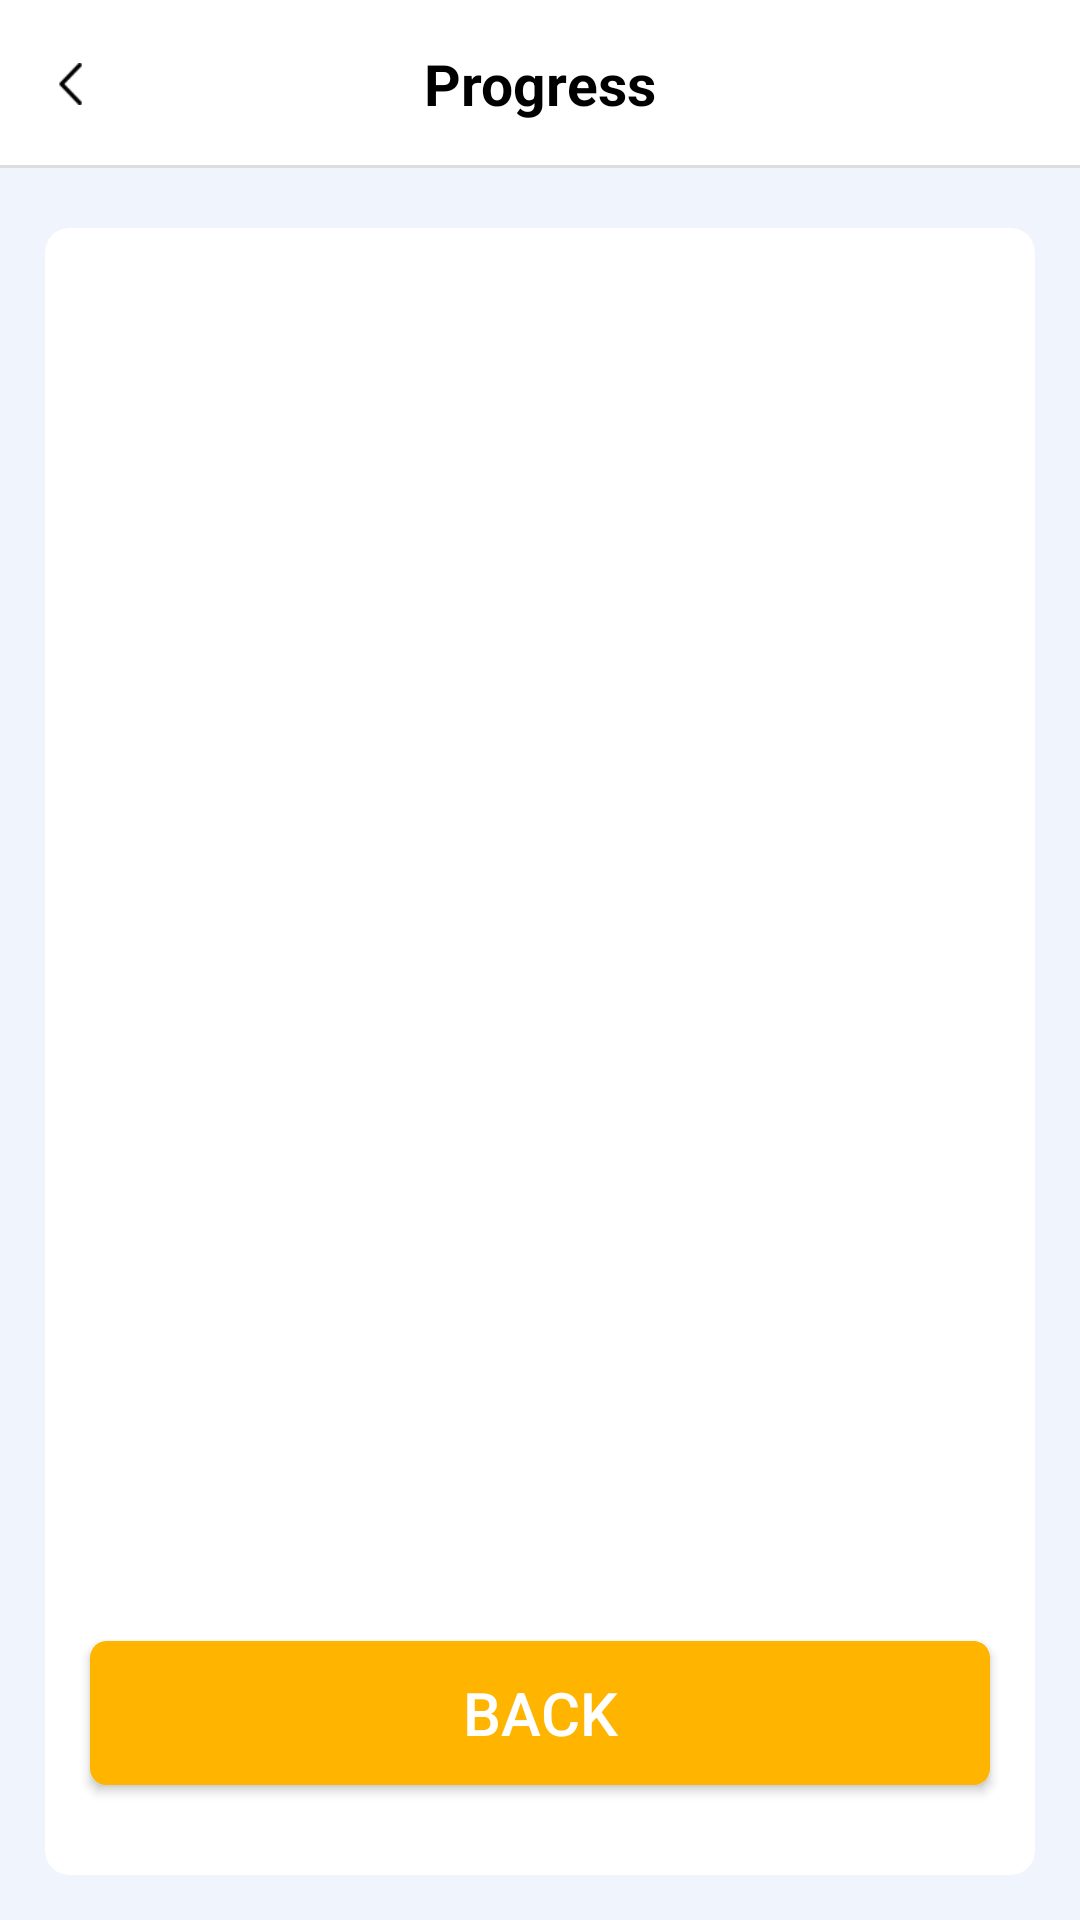

Icon click points for this 1080w x 1920h phone screenshot, format [x,y]:
back: [70,84]
